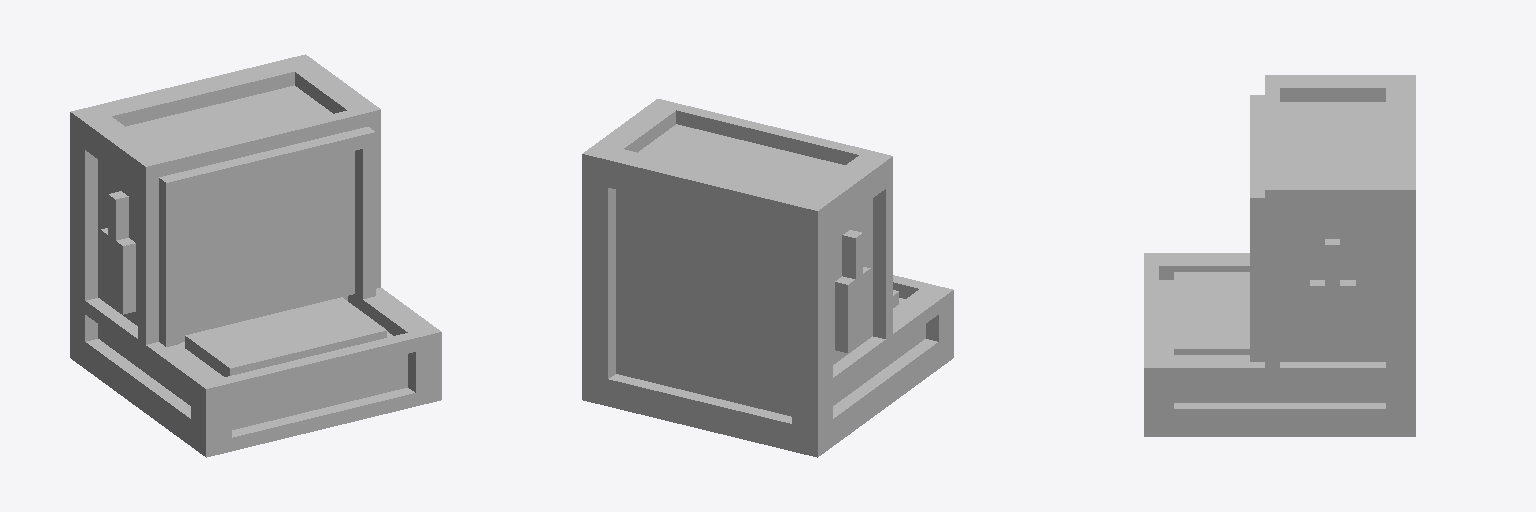
Rendered from computerGuide.obj.
The picture shows the model from 3 angles: view 1: azimuth 30°, elevation 25°; view 2: azimuth 150°, elevation 25°; view 3: azimuth 270°, elevation 25°; orthographic projection.
Visible parts, largest first — view 1: Computer_Guide; view 2: Computer_Guide; view 3: Computer_Guide.
Boxes of the visible parts, box(x1,y1,x2,y2) form: Computer_Guide: box(70, 54, 441, 457); Computer_Guide: box(582, 99, 953, 457); Computer_Guide: box(1144, 75, 1415, 436).
Bounding box in the file's own units: 18 × 18 × 18.